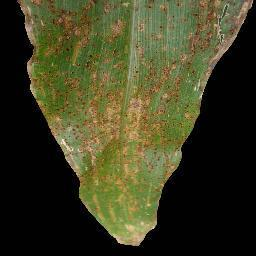Corn_Common_Rust: (14, 0, 256, 252)
